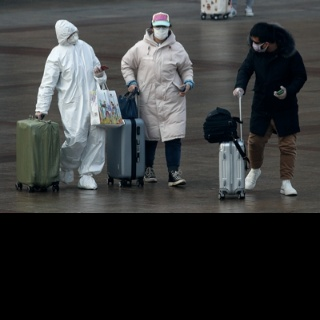with_mask: (153, 24, 169, 40), (252, 38, 265, 54), (67, 31, 80, 44)
